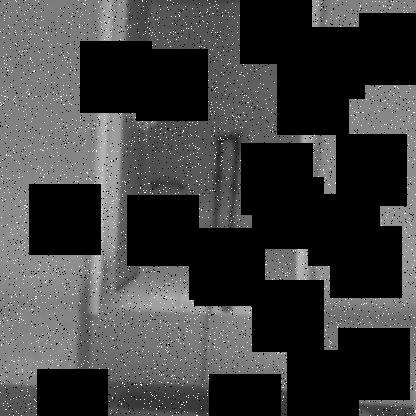Porte: (85, 0, 322, 326)
